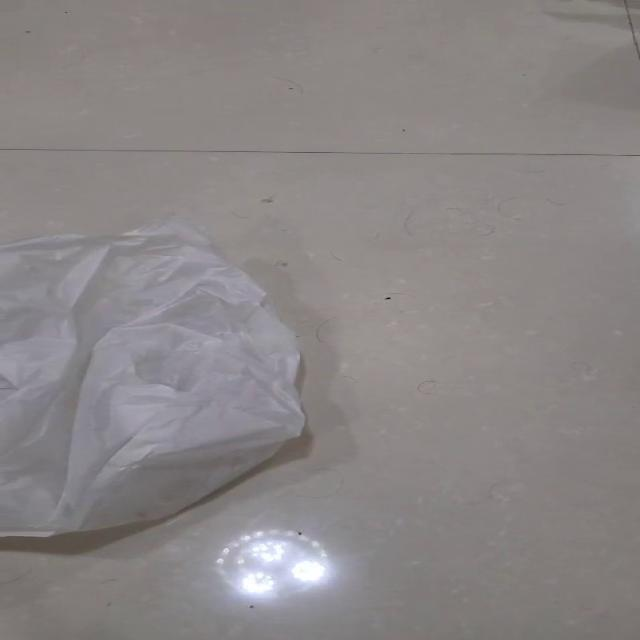plastic: (0, 216, 307, 537)
